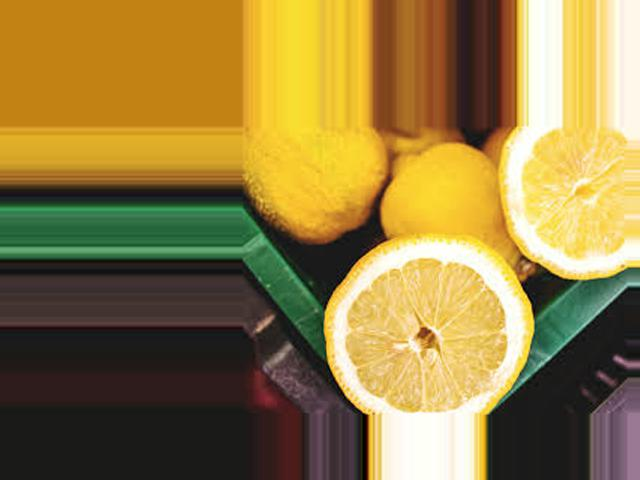lemon: (382, 136, 523, 268)
